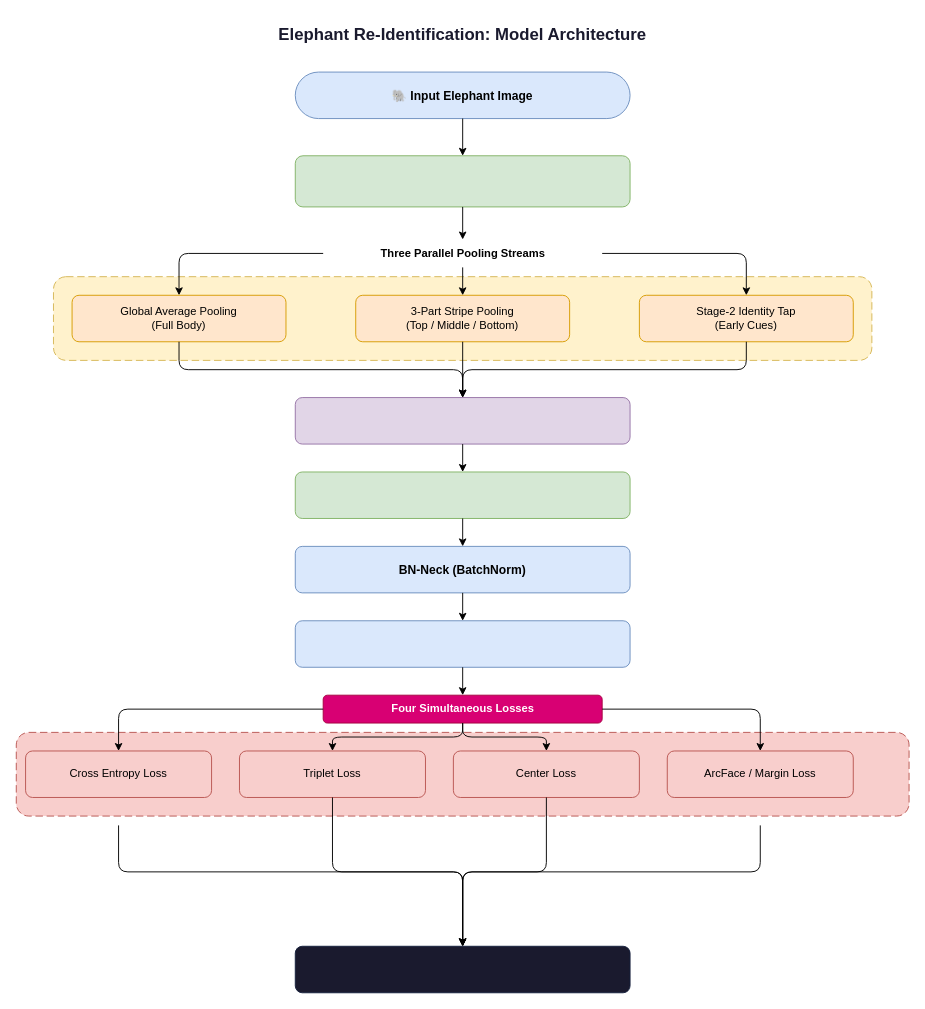
This 925x1009 diagram has some shape labels left out. The centre of each missing label's shape, as x and y in pixels:
384-D Embedding Vector: the point at 462,494
Backpropagation (Update Weights): the point at 462,969
ConvNeXt-Tiny Backbone (Multi-level Feature Maps): the point at 462,181
Feature Fusion (Concatenation): the point at 462,420
L2 Normalization: the point at 462,643
